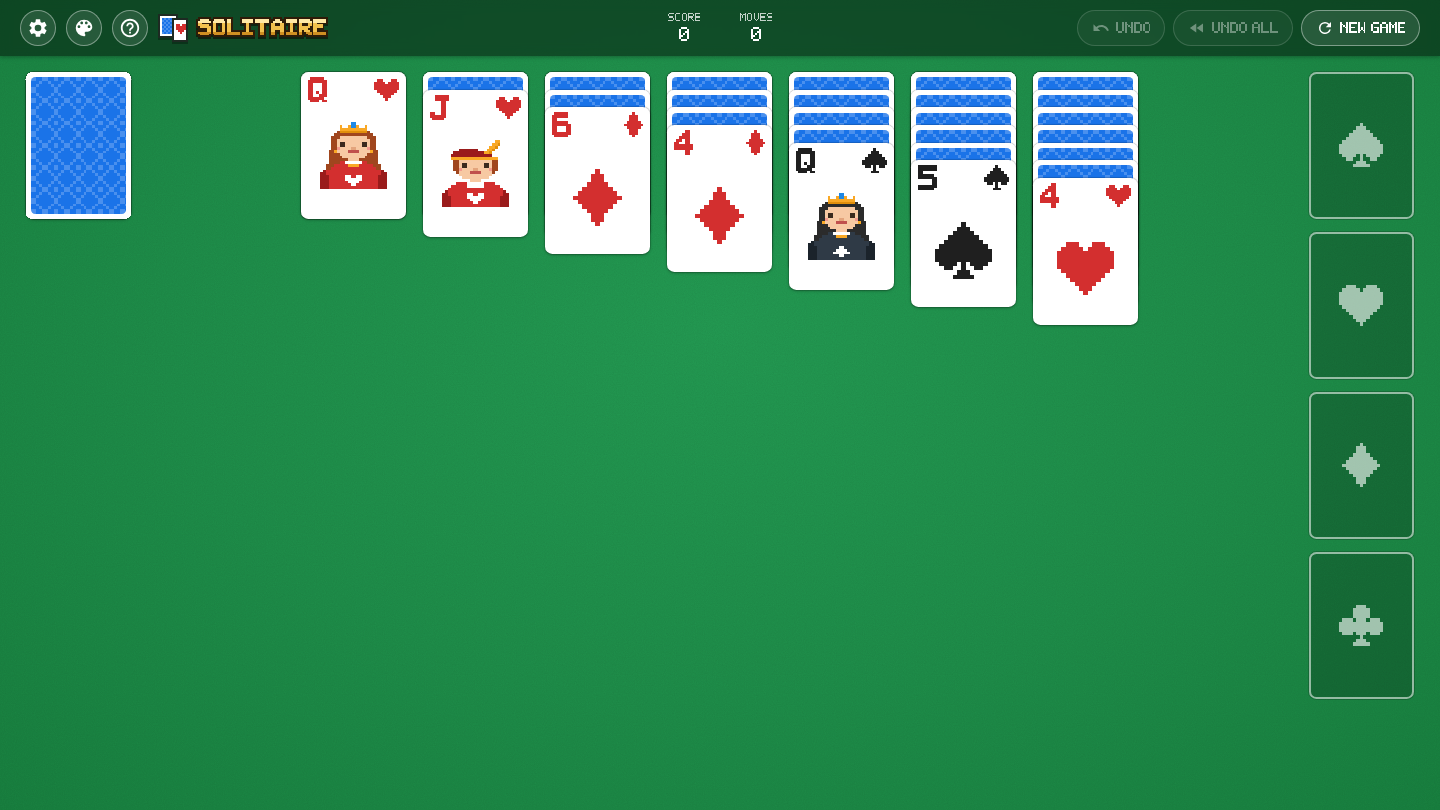
Test: How to play › the ? button opens the rules: goal, columns, deck, tips and scoring
What coordinates should you click on to do the following:
click the button named "How to play"
I would click on:
 (130, 28)
Its box is [112,10,148,46].
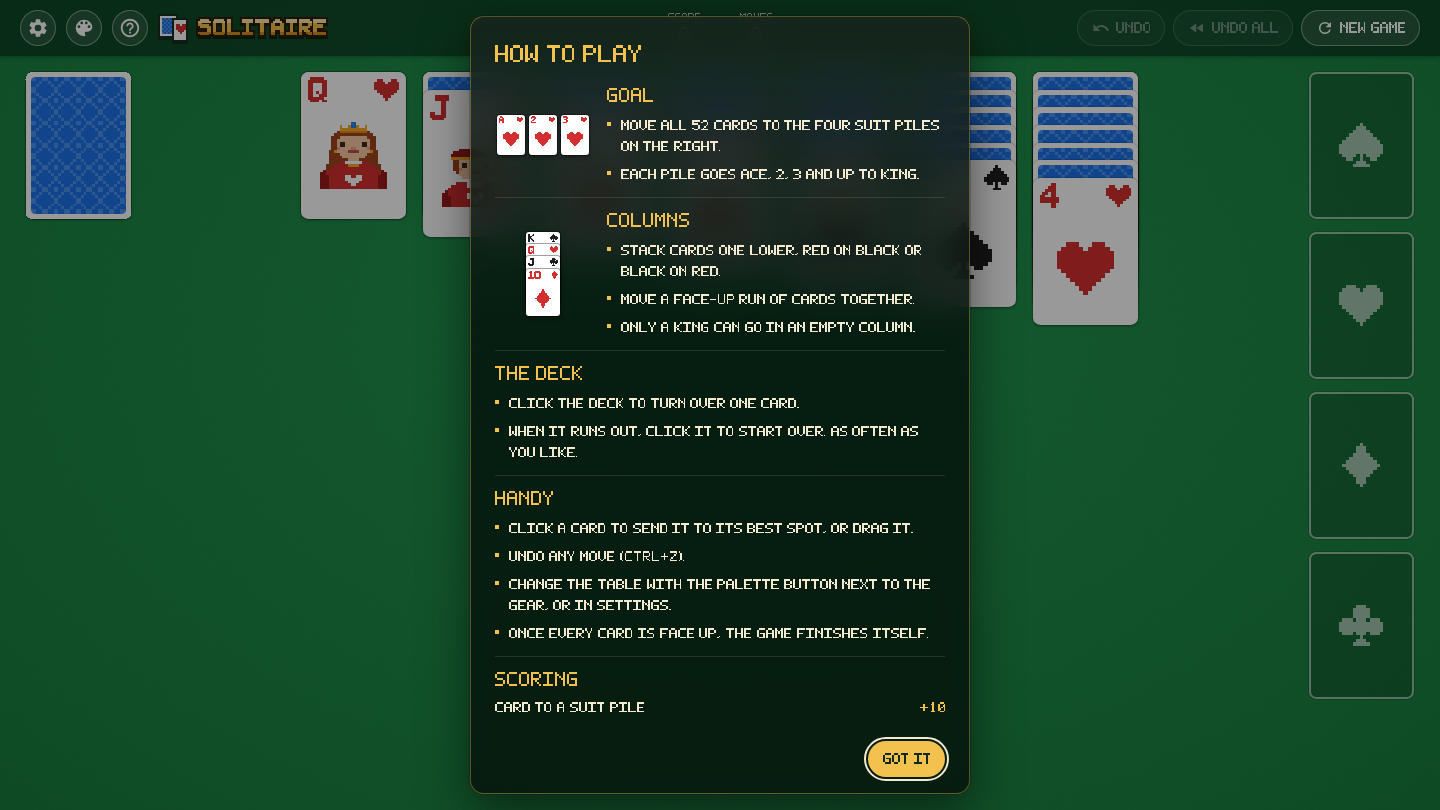
Now the 2nd heading named "Goal" is shown, box [606,84,653,106]
Now the 3rd heading named "Columns" is shown, box [606,209,689,231]
Now the 4th heading named "The deck" is shown, box [494,362,582,384]
